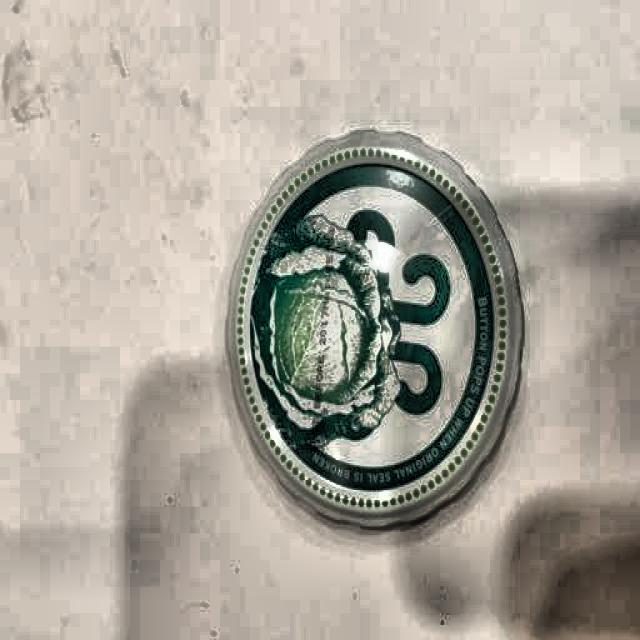metal: (230, 130, 527, 534)
